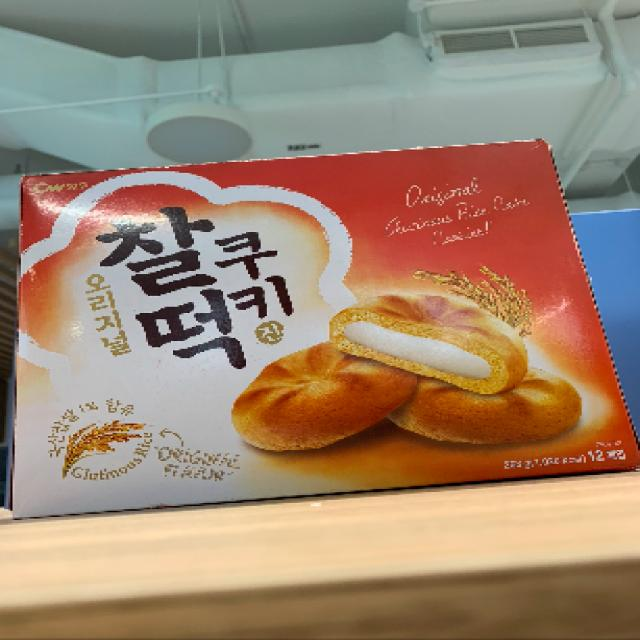object_name: (18, 174, 630, 480)
